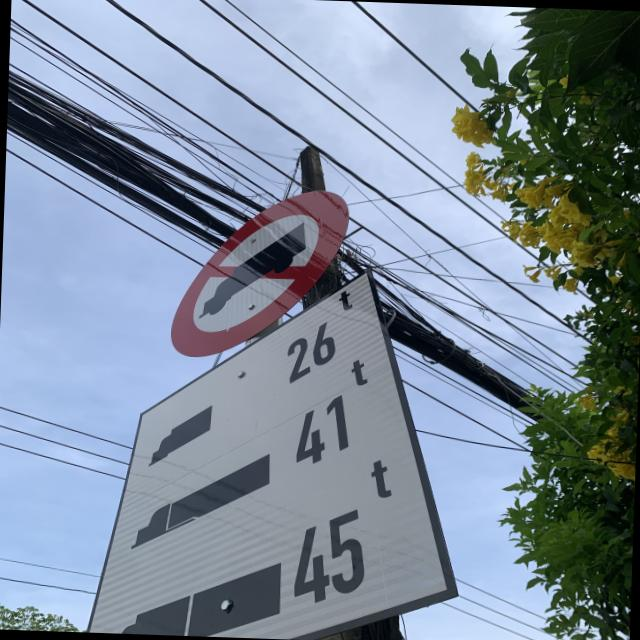Cam_Xe_Tai: (166, 185, 357, 358)
